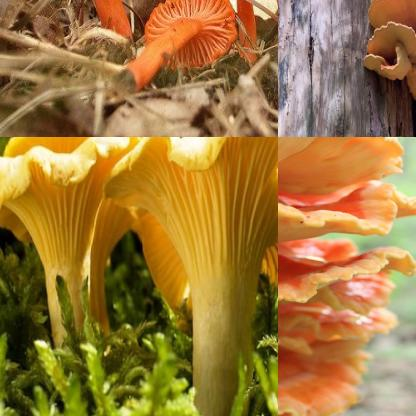CoW: (278, 137, 416, 416), (361, 0, 416, 105)
chanterelle: (104, 137, 278, 416), (0, 137, 149, 352), (129, 0, 237, 87), (12, 0, 139, 43), (221, 0, 278, 61)
